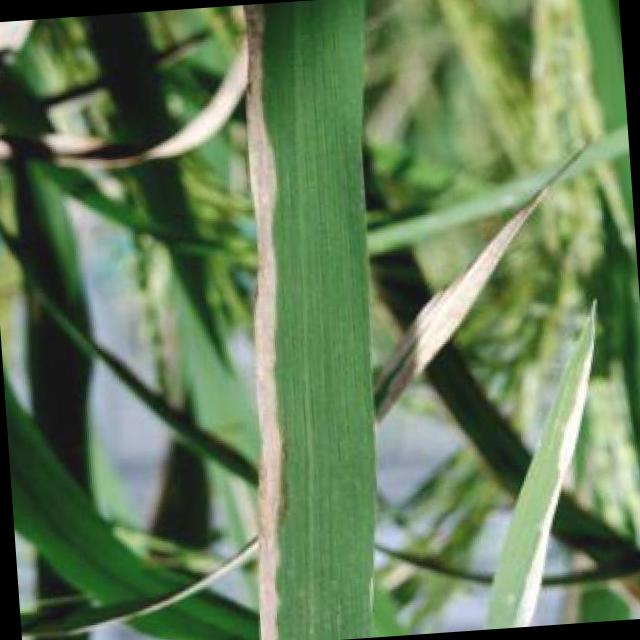Rice_Bacterial_Blight: (208, 0, 399, 639)
